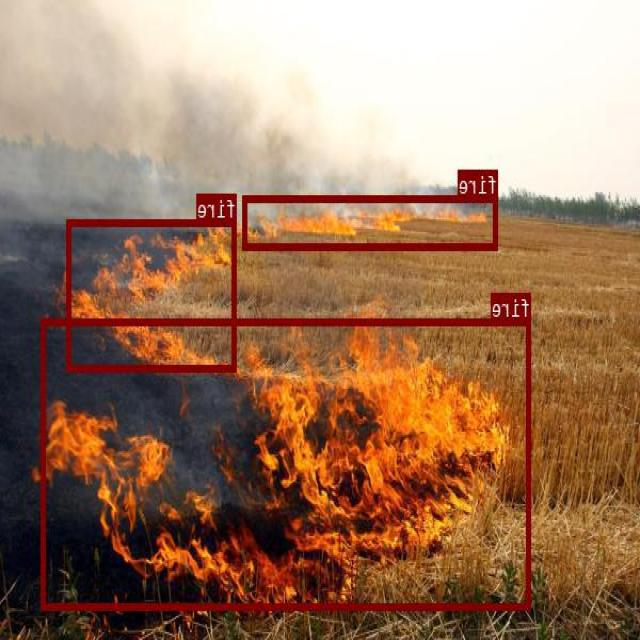fire: (42, 317, 531, 609), (68, 218, 237, 370), (244, 195, 498, 249)
